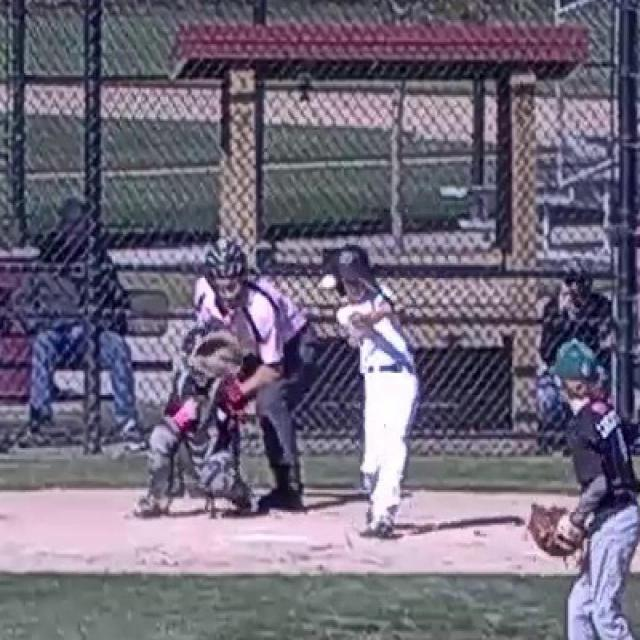baseball: (323, 274, 336, 288)
